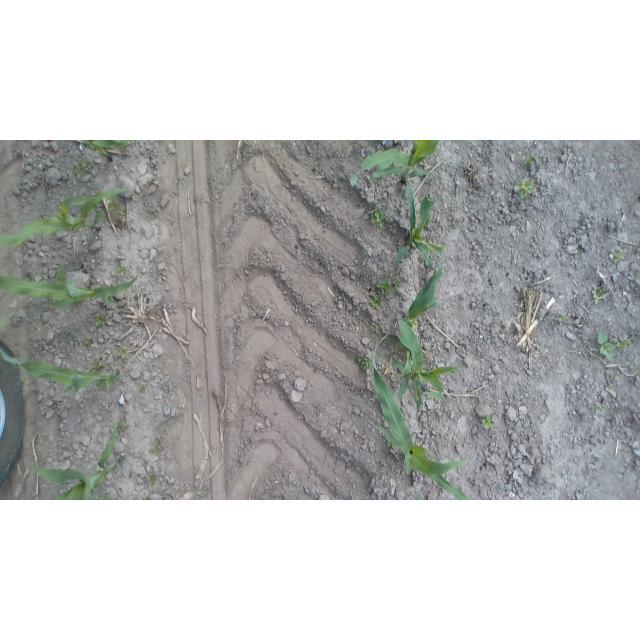Maize: (370, 332, 479, 500), (28, 416, 132, 500), (0, 187, 132, 248), (1, 258, 142, 308), (1, 341, 126, 396), (392, 315, 465, 405), (391, 176, 445, 273), (394, 265, 449, 359), (346, 140, 447, 189), (76, 141, 138, 156)
Weeds: (594, 330, 631, 359), (513, 179, 536, 202), (368, 205, 388, 229), (378, 278, 402, 298), (73, 158, 95, 178), (591, 283, 607, 306), (367, 317, 385, 337), (479, 412, 497, 431), (355, 353, 374, 371), (90, 313, 108, 329), (522, 153, 541, 168), (607, 250, 626, 265), (143, 473, 161, 488), (369, 293, 384, 309), (196, 483, 212, 498), (555, 311, 571, 325), (151, 439, 165, 454), (613, 371, 627, 386), (136, 380, 151, 393), (117, 347, 130, 362), (93, 359, 107, 372), (82, 335, 95, 349), (117, 420, 132, 432), (117, 263, 128, 278), (99, 492, 116, 500), (595, 365, 605, 376), (632, 366, 640, 378), (140, 494, 152, 500)
